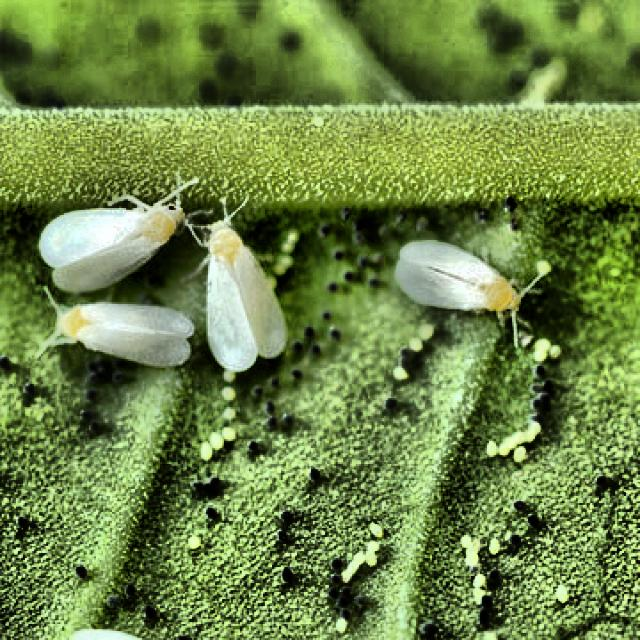whitefly: (385, 222, 555, 348), (195, 203, 308, 379), (32, 180, 196, 292), (39, 294, 194, 380)
